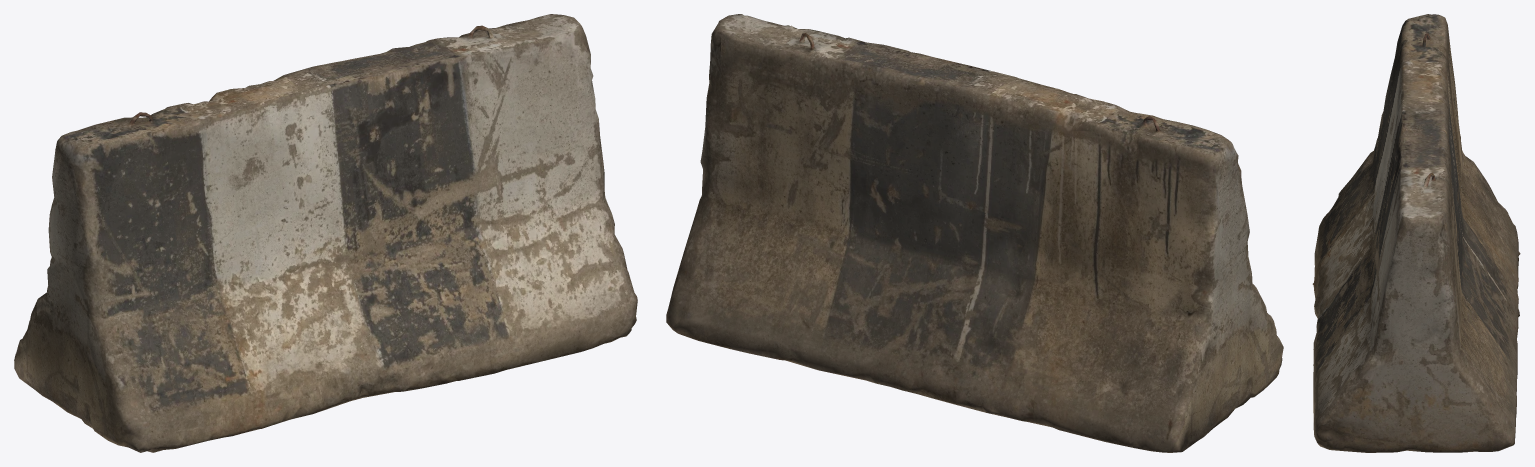
File: concrete_road_barrier.5c7ab57847.glb
3 views of the same model, side by side, from view 1: azimuth 30°, elevation 25°; view 2: azimuth 150°, elevation 25°; view 3: azimuth 270°, elevation 25° (orthographic). The views are drawn at different scales.
Visible parts, largest first — view 1: concrete_road_barrier; view 2: concrete_road_barrier; view 3: concrete_road_barrier.
Boxes of the visible parts, bbox=[...] form: concrete_road_barrier: bbox=[14, 14, 637, 452]; concrete_road_barrier: bbox=[666, 14, 1283, 452]; concrete_road_barrier: bbox=[1312, 14, 1520, 452].
Bounding box in the file's own units: 1.54 × 0.8304 × 0.6387.
1 material, 1 textured.
